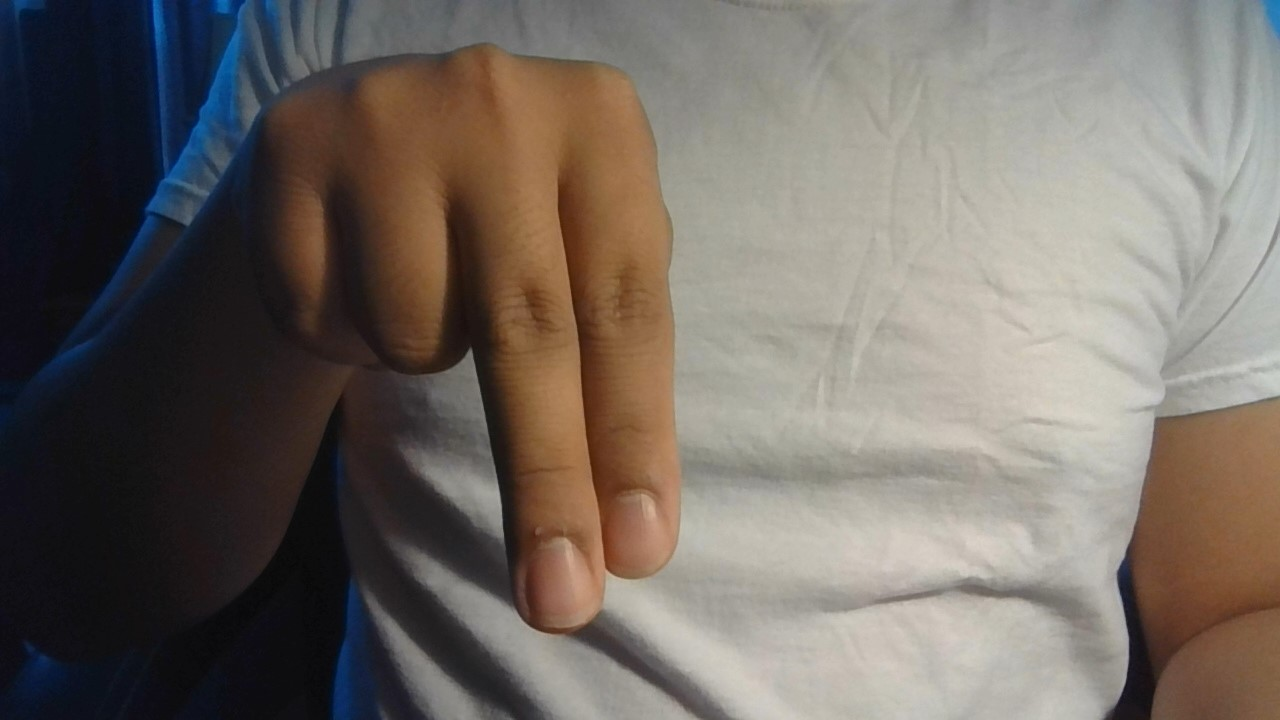n: (207, 35, 711, 645)
